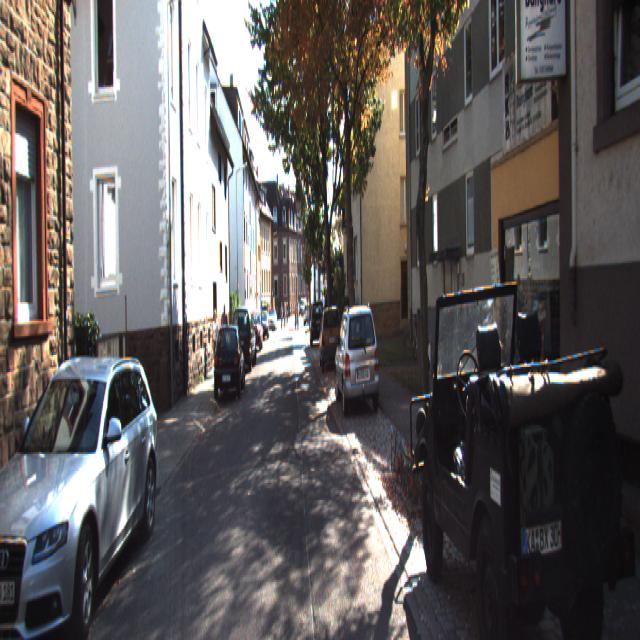Car: (408, 246, 639, 638), (0, 346, 161, 638), (332, 310, 381, 424), (209, 321, 246, 402), (229, 306, 256, 376), (317, 306, 342, 375), (308, 300, 326, 348), (247, 308, 264, 353)
DontCare: (266, 295, 306, 333)
